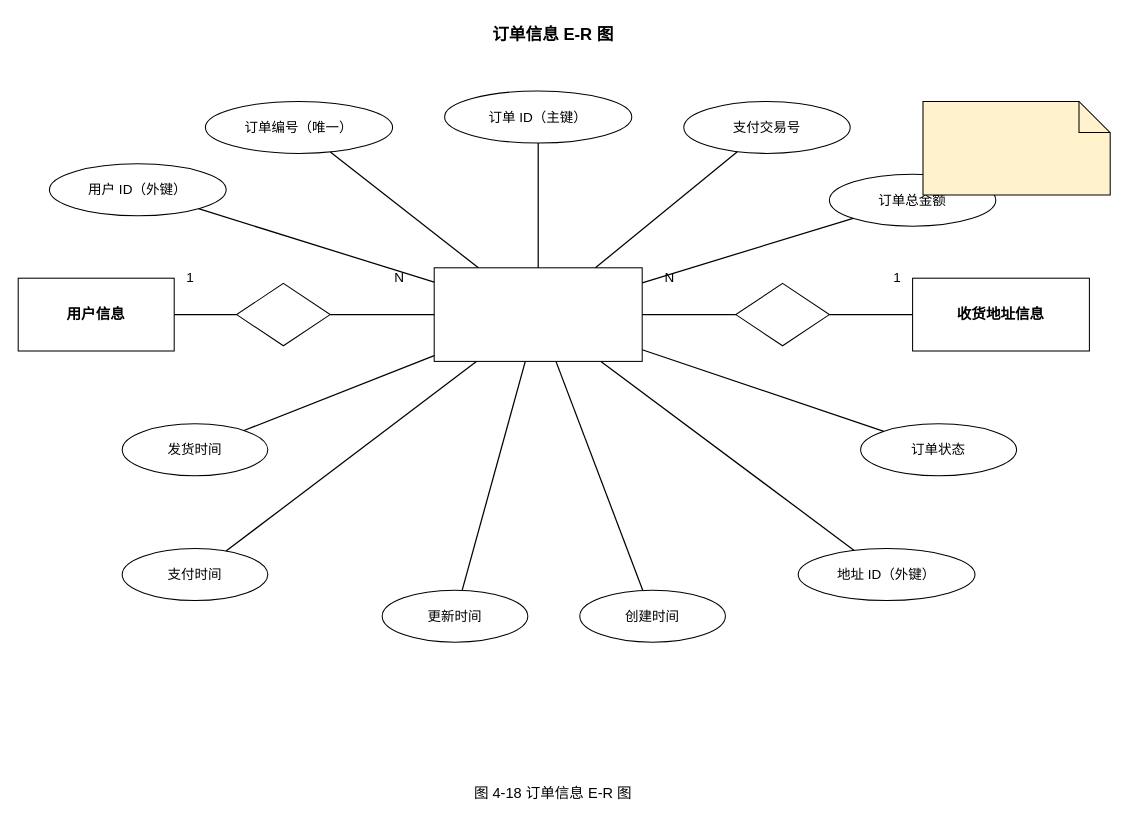
Some shapes in this 1128 by 826 pixel diagram are drawn without their labels. The box of each missing label's shape, as (x1, y1, x2, y2) in pixels:
使用: (735, 282, 829, 346)
提交: (236, 282, 330, 346)
状态示例：待支付、待发货、已发货、已完成、已取消: (922, 100, 1110, 195)
订单信息: (433, 267, 642, 361)
